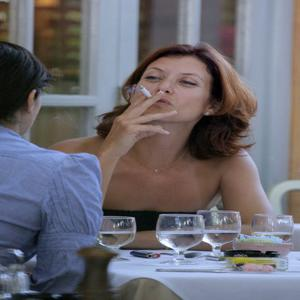cigarette: (138, 85, 156, 99)
